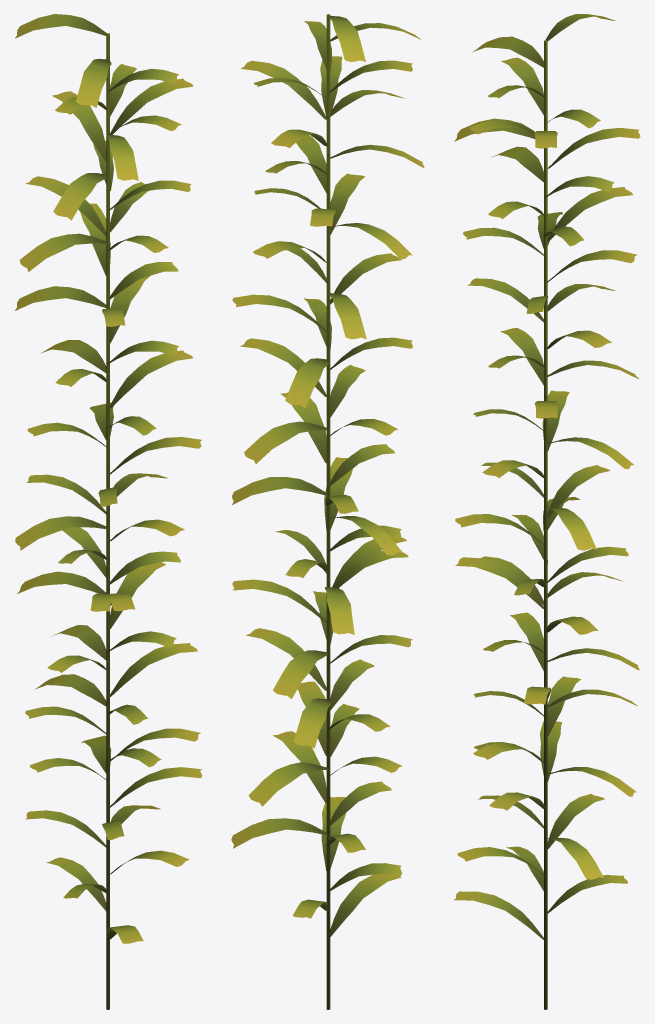
File: kelp.fbx
3 views of the same model, side by side, from view 1: azimuth 30°, elevation 25°; view 2: azimuth 150°, elevation 25°; view 3: azimuth 270°, elevation 25° (orthographic). The views are drawn at different scales.
Parts seen in each view (by area): view 1: Kelp; view 2: Kelp; view 3: Kelp.
Part boxes in pixels (<box>): Kelp: <box>15,14,202,1009</box>; Kelp: <box>231,14,424,1009</box>; Kelp: <box>454,14,640,1009</box>.
Size of the model in its own units: 0.9617 by 5.55 by 0.9611.
